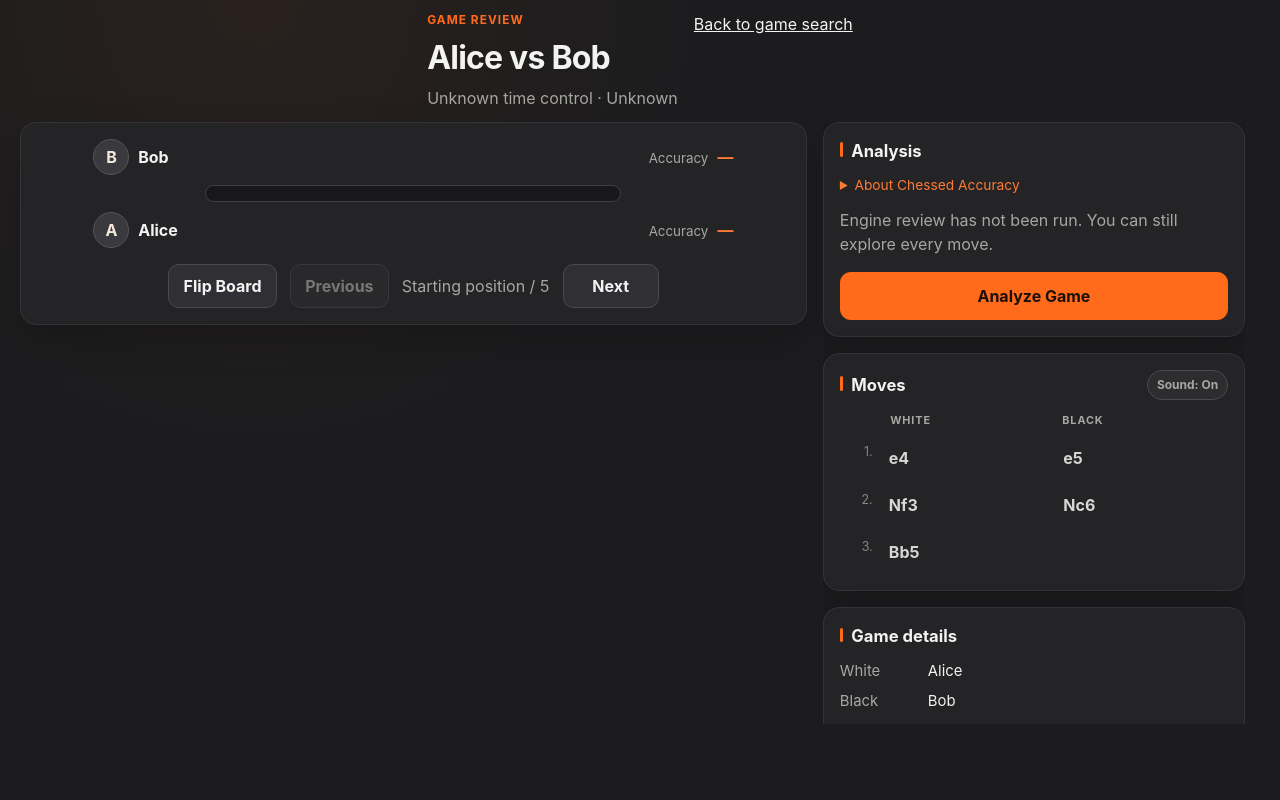
Test case: review-page analysis workflow › plays at most one destination sound per deliberate navigation and none at start
This screenshot has width=1280, height=800.
expect the button "Analyze Game" is shown: met, box [840,272,1228,320]
Step 1. Click the button with aria-label "White move Bb5" → (965, 552), box [881,530,1050,574]
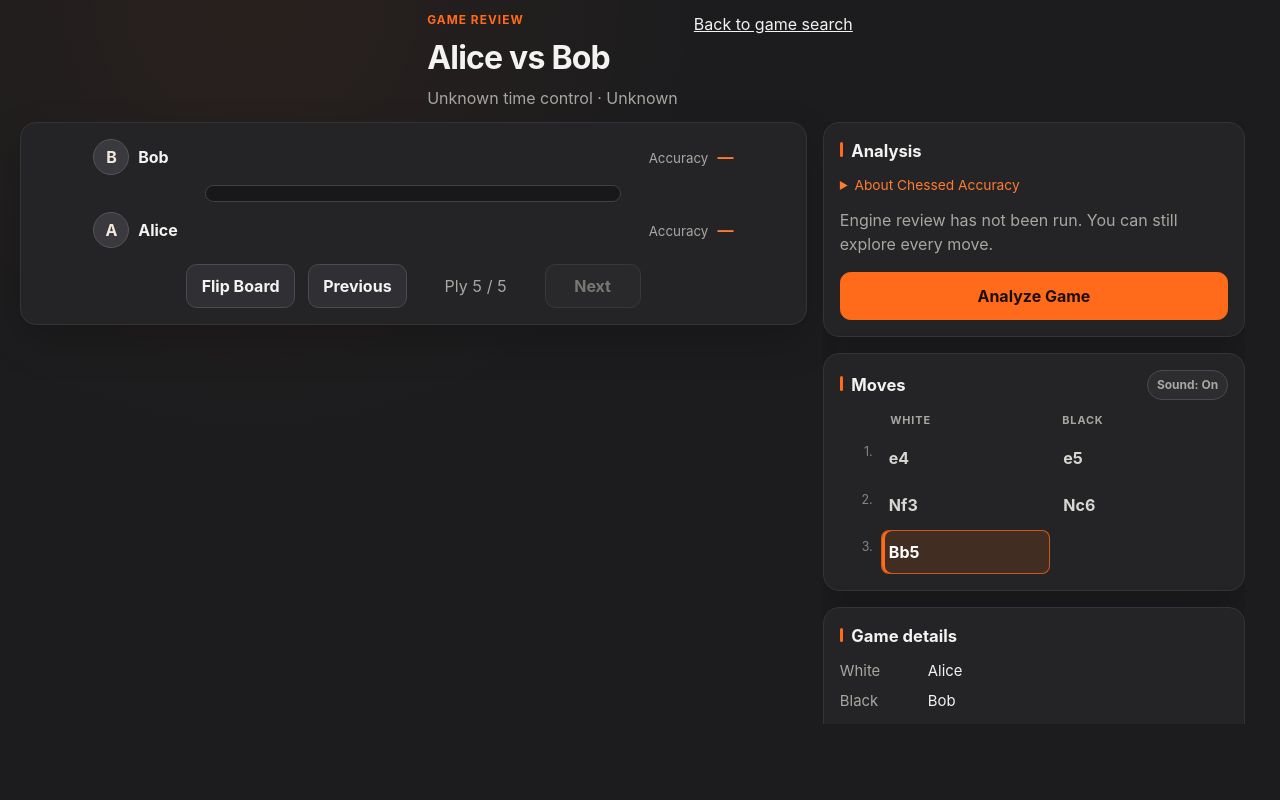
Step 2. Press ArrowLeft
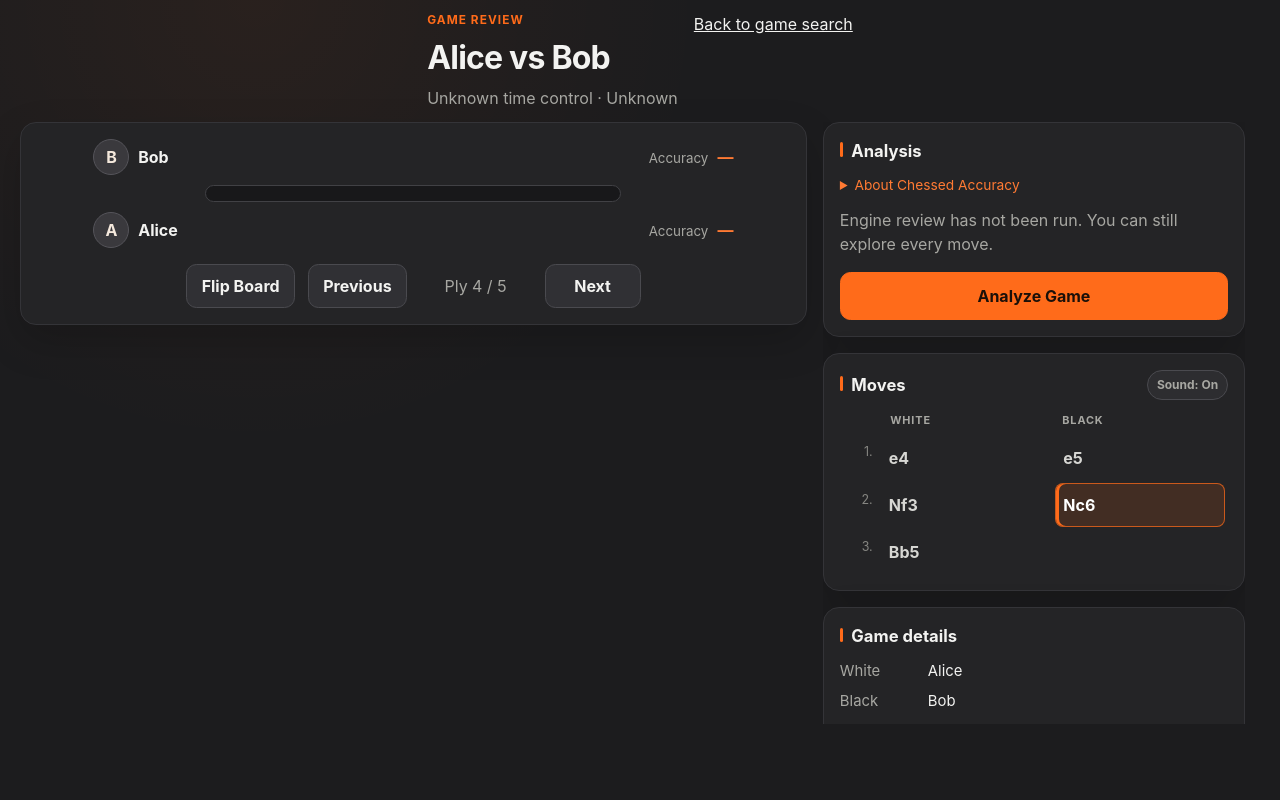
Step 3. Click the button "Previous" → (357, 286), box [308,264,407,308]
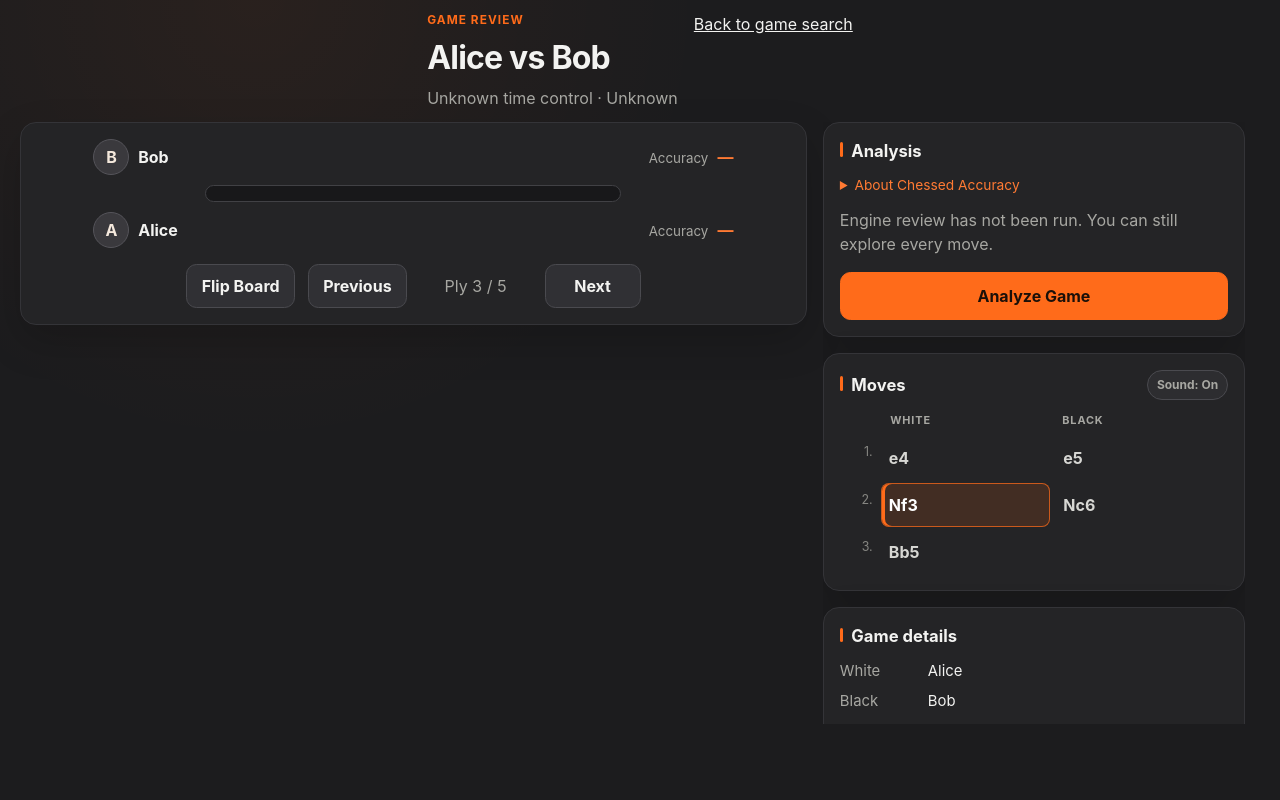
Step 4. Click the button "Previous" → (357, 286), box [308,264,407,308]
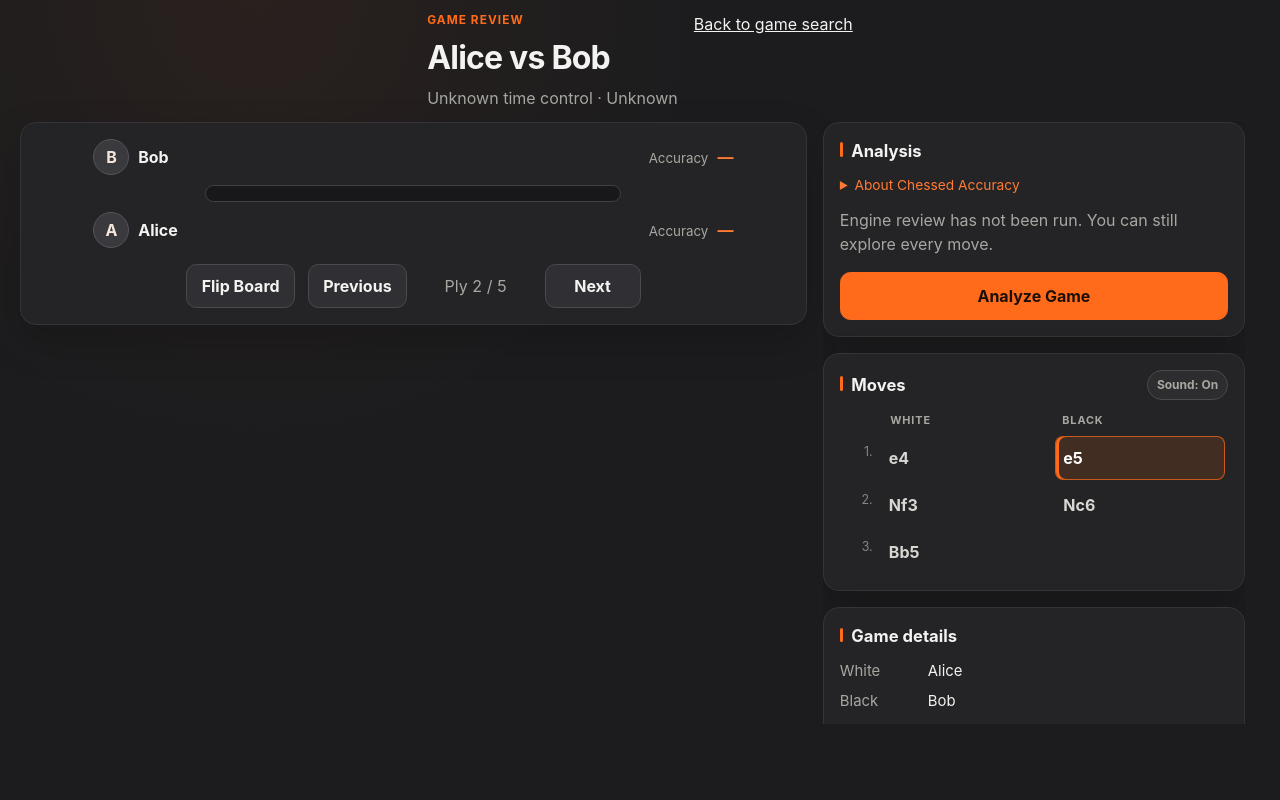
Step 5. Click the button "Previous" → (357, 286), box [308,264,407,308]
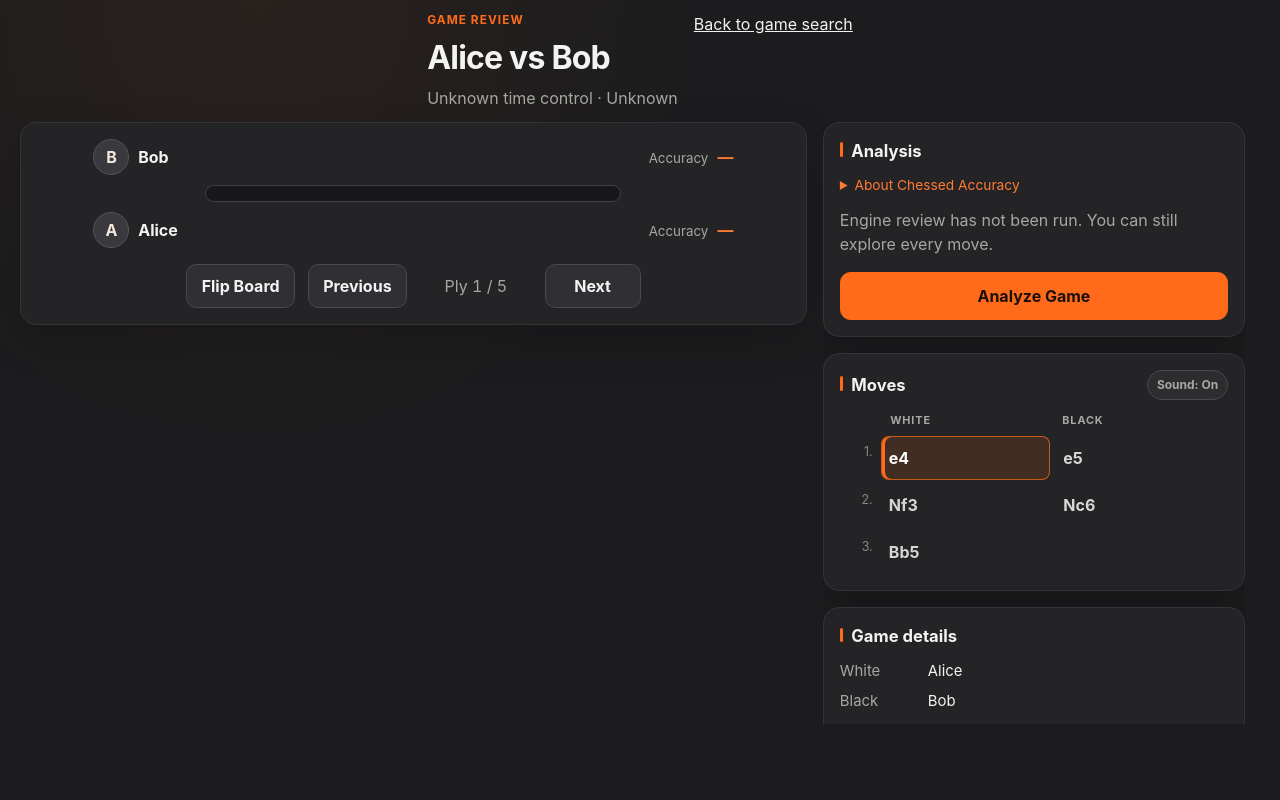
Step 6. Click the button "Previous" → (357, 286), box [308,264,407,308]
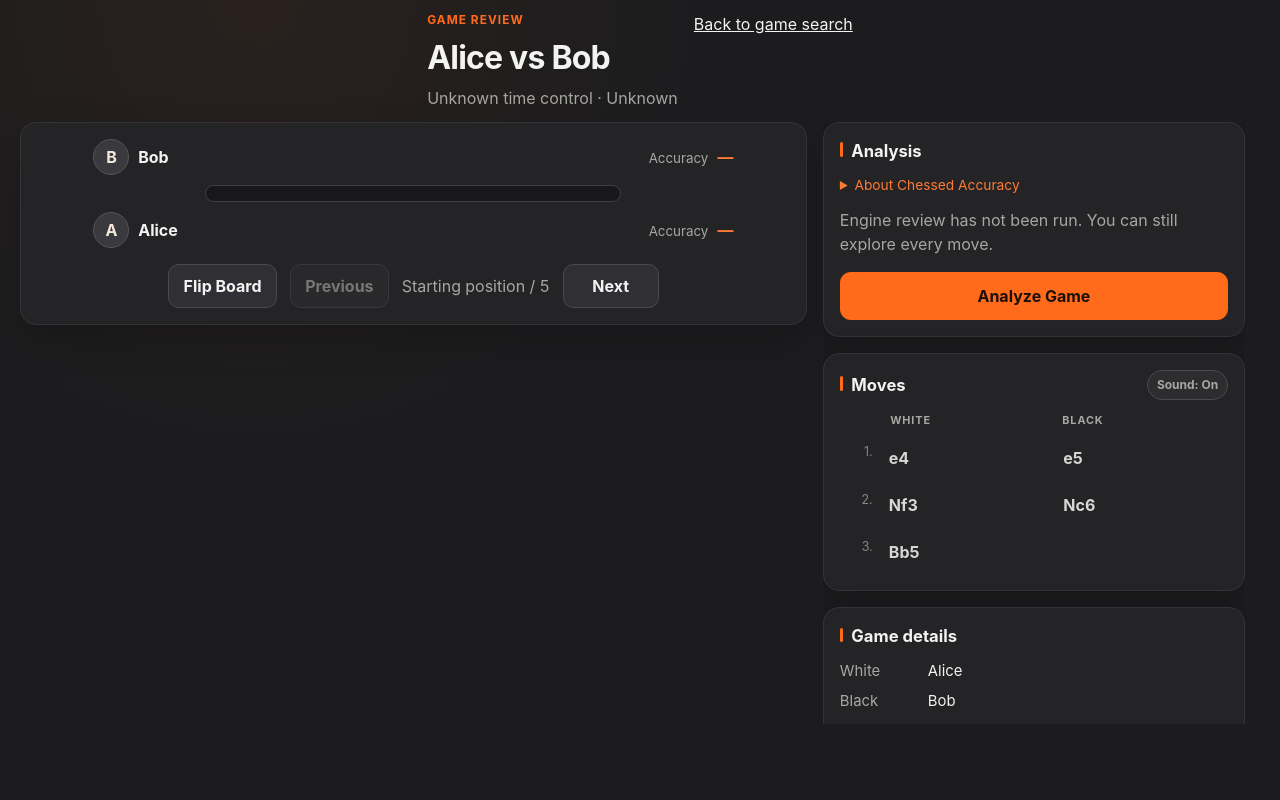
expect the text "Starting position / 5" is shown: met, box [402,274,550,298]
